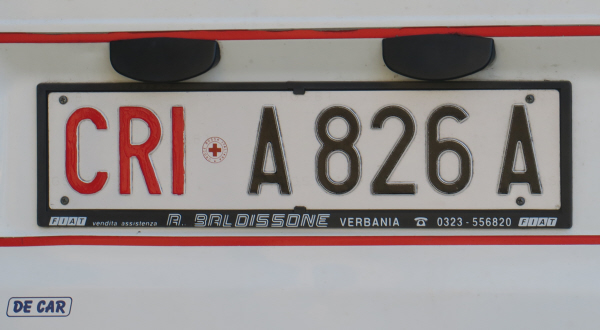license_plate: (47, 89, 563, 211)
